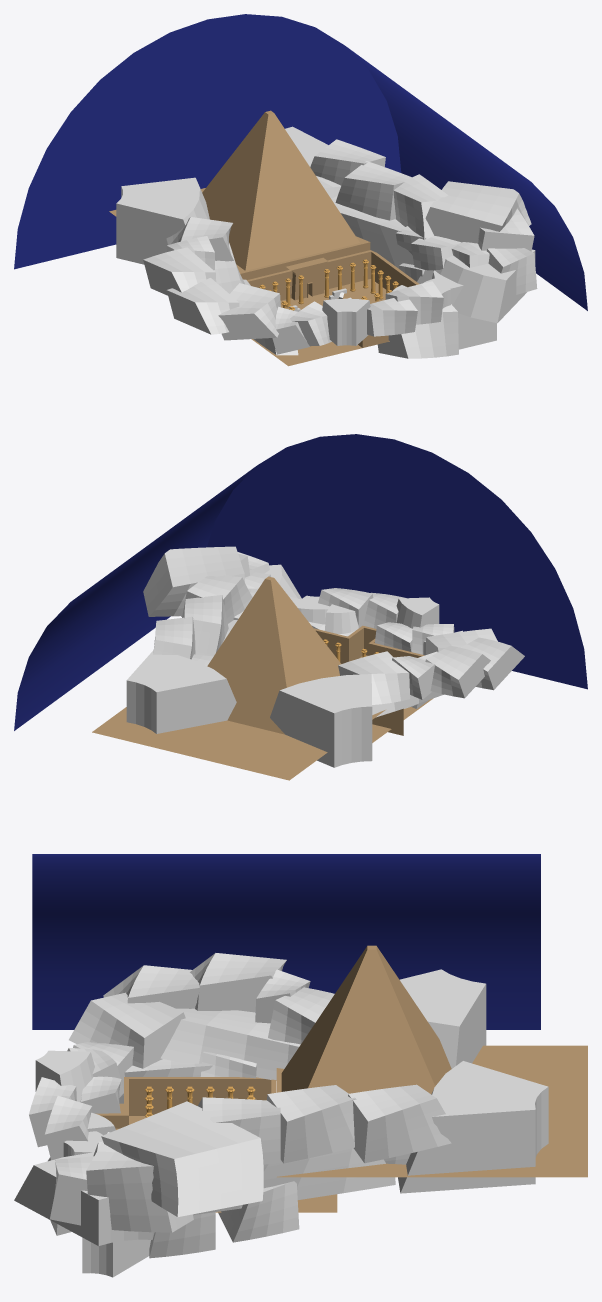
The model's file is Desert_Blockout_03.fbx.
3 views of the same model, one above another, from view 1: azimuth 30°, elevation 25°; view 2: azimuth 150°, elevation 25°; view 3: azimuth 270°, elevation 25° (orthographic). The views are drawn at different scales.
Visible parts, largest first — view 1: Cylinder.008, Cube.112, Cube.165, Grid.001, Cube.128, Cube.121, Cube.134, Cube.131, Cube.161, Cube.139, Cube.138, Cube.126 (+18 smaller); view 2: Cylinder.008, Cube.112, Cube.117, Cube.165, Cube.166, Cube.128, Cube.138, Cube.137, Grid.001, Cube.134, Cube.133, Cube.139 (+12 smaller); view 3: Cylinder.008, Cube.112, Cube.166, Cube.128, Cube.117, Cube.167, Cube.130, Cube.165, Cube.134, Cube.131, Cube.129, Grid.001 (+20 smaller).
Part boxes in pixels (box(x1,y1,x2,y2)): Cylinder.008: box(14, 14, 587, 310); Cube.112: box(202, 110, 359, 270); Cube.165: box(116, 177, 209, 264); Grid.001: box(247, 250, 419, 366); Cube.128: box(425, 181, 531, 243); Cube.121: box(417, 249, 535, 323); Cube.134: box(335, 161, 411, 220); Cube.131: box(218, 283, 280, 340); Cube.161: box(377, 304, 458, 358); Cube.139: box(166, 278, 239, 334); Cube.138: box(143, 247, 216, 295); Cube.126: box(331, 196, 413, 268); Cylinder.008: box(14, 434, 587, 730); Cube.112: box(207, 576, 341, 734); Cube.117: box(92, 707, 403, 780); Cube.165: box(270, 674, 372, 767); Cube.166: box(126, 650, 236, 733); Cube.128: box(143, 546, 244, 616); Cube.138: box(425, 645, 490, 698); Cube.137: box(338, 651, 410, 704); Grid.001: box(314, 625, 433, 742); Cube.134: box(184, 595, 228, 656); Cube.133: box(182, 575, 252, 623); Cube.139: box(461, 637, 524, 690); Cylinder.008: box(32, 854, 540, 1029); Cube.112: box(281, 945, 451, 1094); Cube.166: box(398, 1061, 548, 1193); Cube.128: box(101, 1101, 263, 1216); Cube.117: box(276, 1045, 587, 1177); Cube.167: box(348, 1084, 451, 1163); Cube.130: box(160, 1008, 300, 1080); Cube.165: box(400, 969, 486, 1068); Cube.134: box(267, 1085, 356, 1163); Cube.131: box(69, 992, 185, 1068); Cube.129: box(86, 1132, 193, 1232); Grid.001: box(95, 1077, 337, 1212).
Bounding box in the file's own units: 122 × 67.35 × 113.
